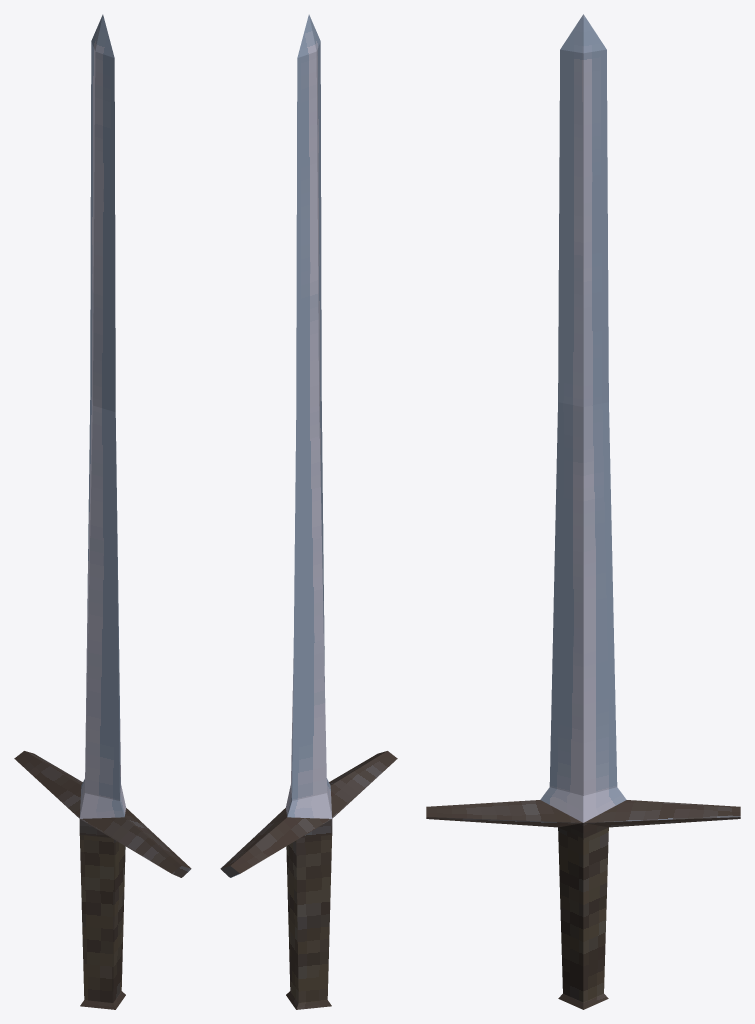
Rendered from lSword.fbx.
3 renders of one model, left to right at view 1: azimuth 30°, elevation 25°; view 2: azimuth 150°, elevation 25°; view 3: azimuth 270°, elevation 25°, orthographic.
Parts seen in each view (by area): view 1: Cylinder; view 2: Cylinder; view 3: Cylinder.
Part boxes in pixels (bbox=[...]): Cylinder: bbox=[14, 14, 191, 1009]; Cylinder: bbox=[220, 14, 397, 1009]; Cylinder: bbox=[426, 14, 740, 1009].
Bounding box in the file's own units: 6.28 × 128 × 36.87.
